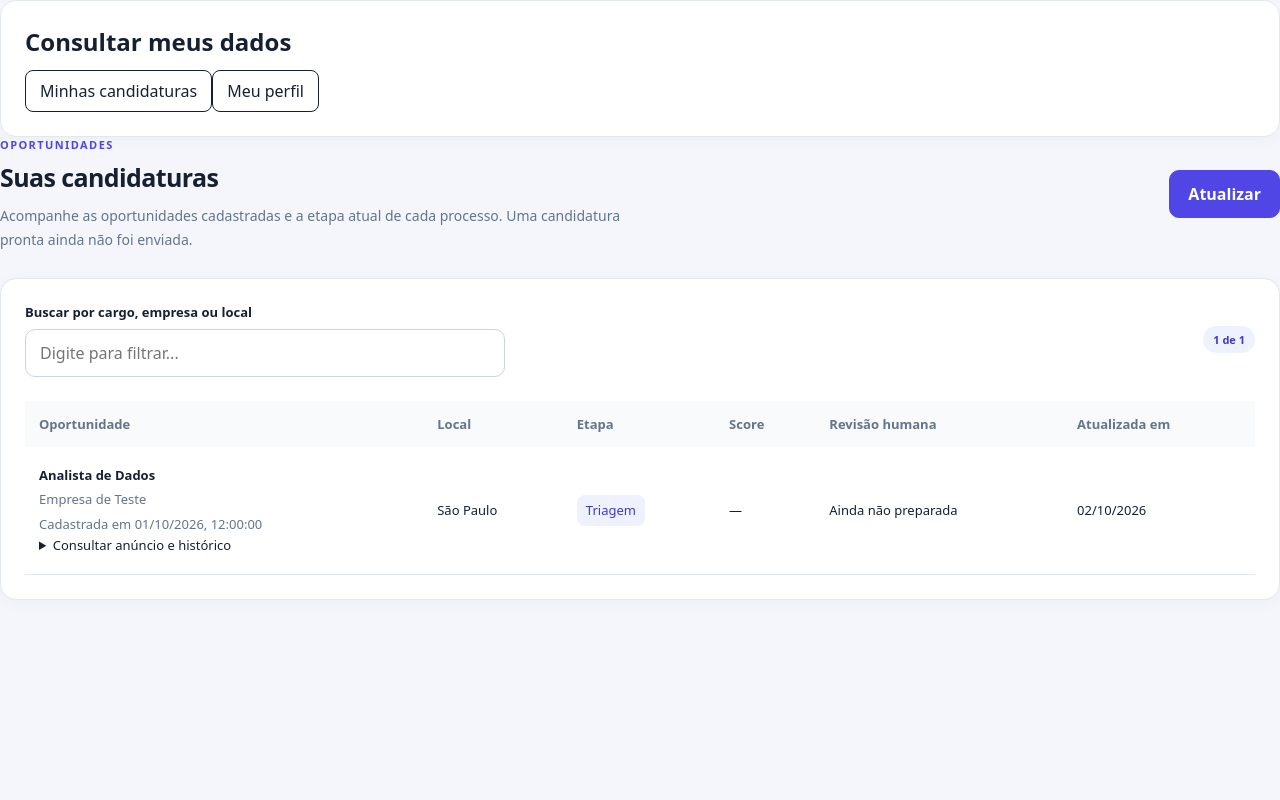
Scenario: permite ler o anúncio e histórico sem exibir ações de edição
Expected: the text "Analista de Dados" is shown, [39,466,155,484]
Click the heading "Consultar anúncio e histórico" at (142, 545), box [53,536,231,554]
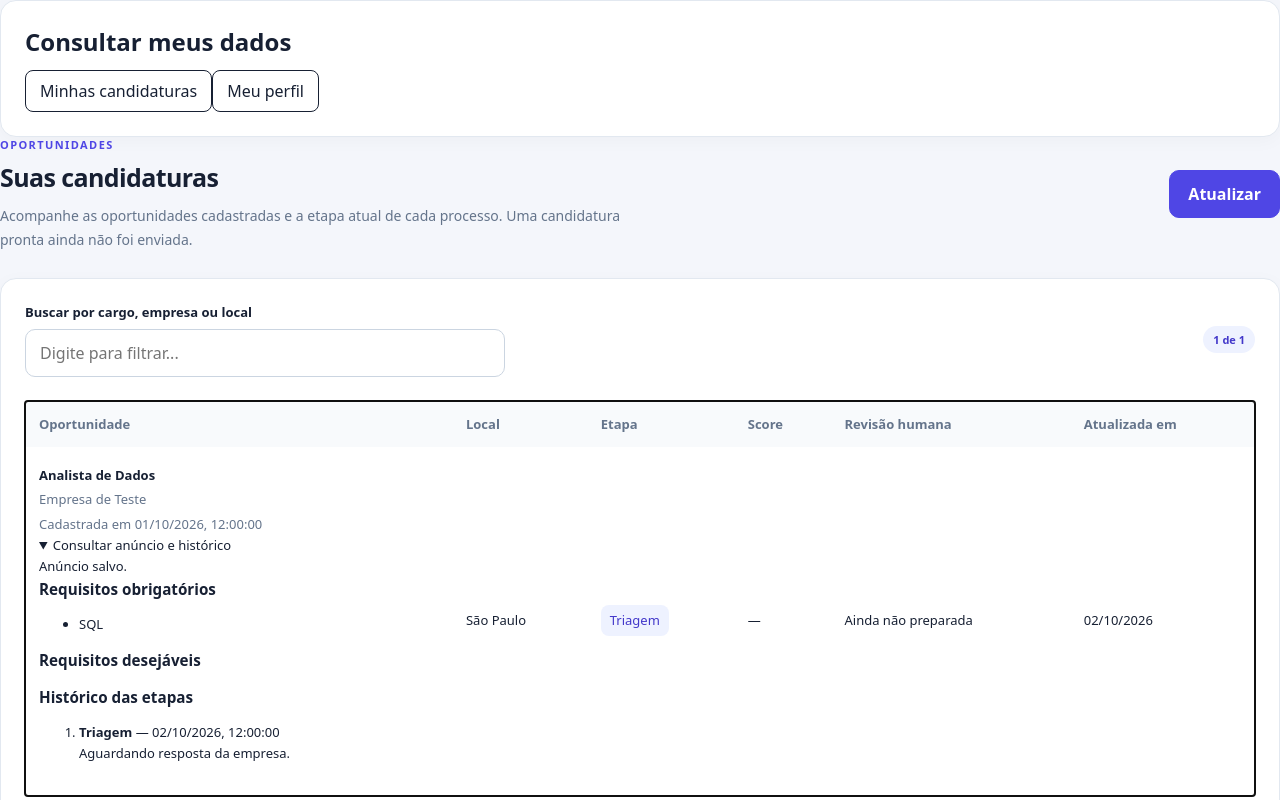
Now the text "Aguardando resposta da empresa." is shown, box [79,744,290,762]
Now the text "Anúncio salvo." is shown, box [39,557,127,575]
